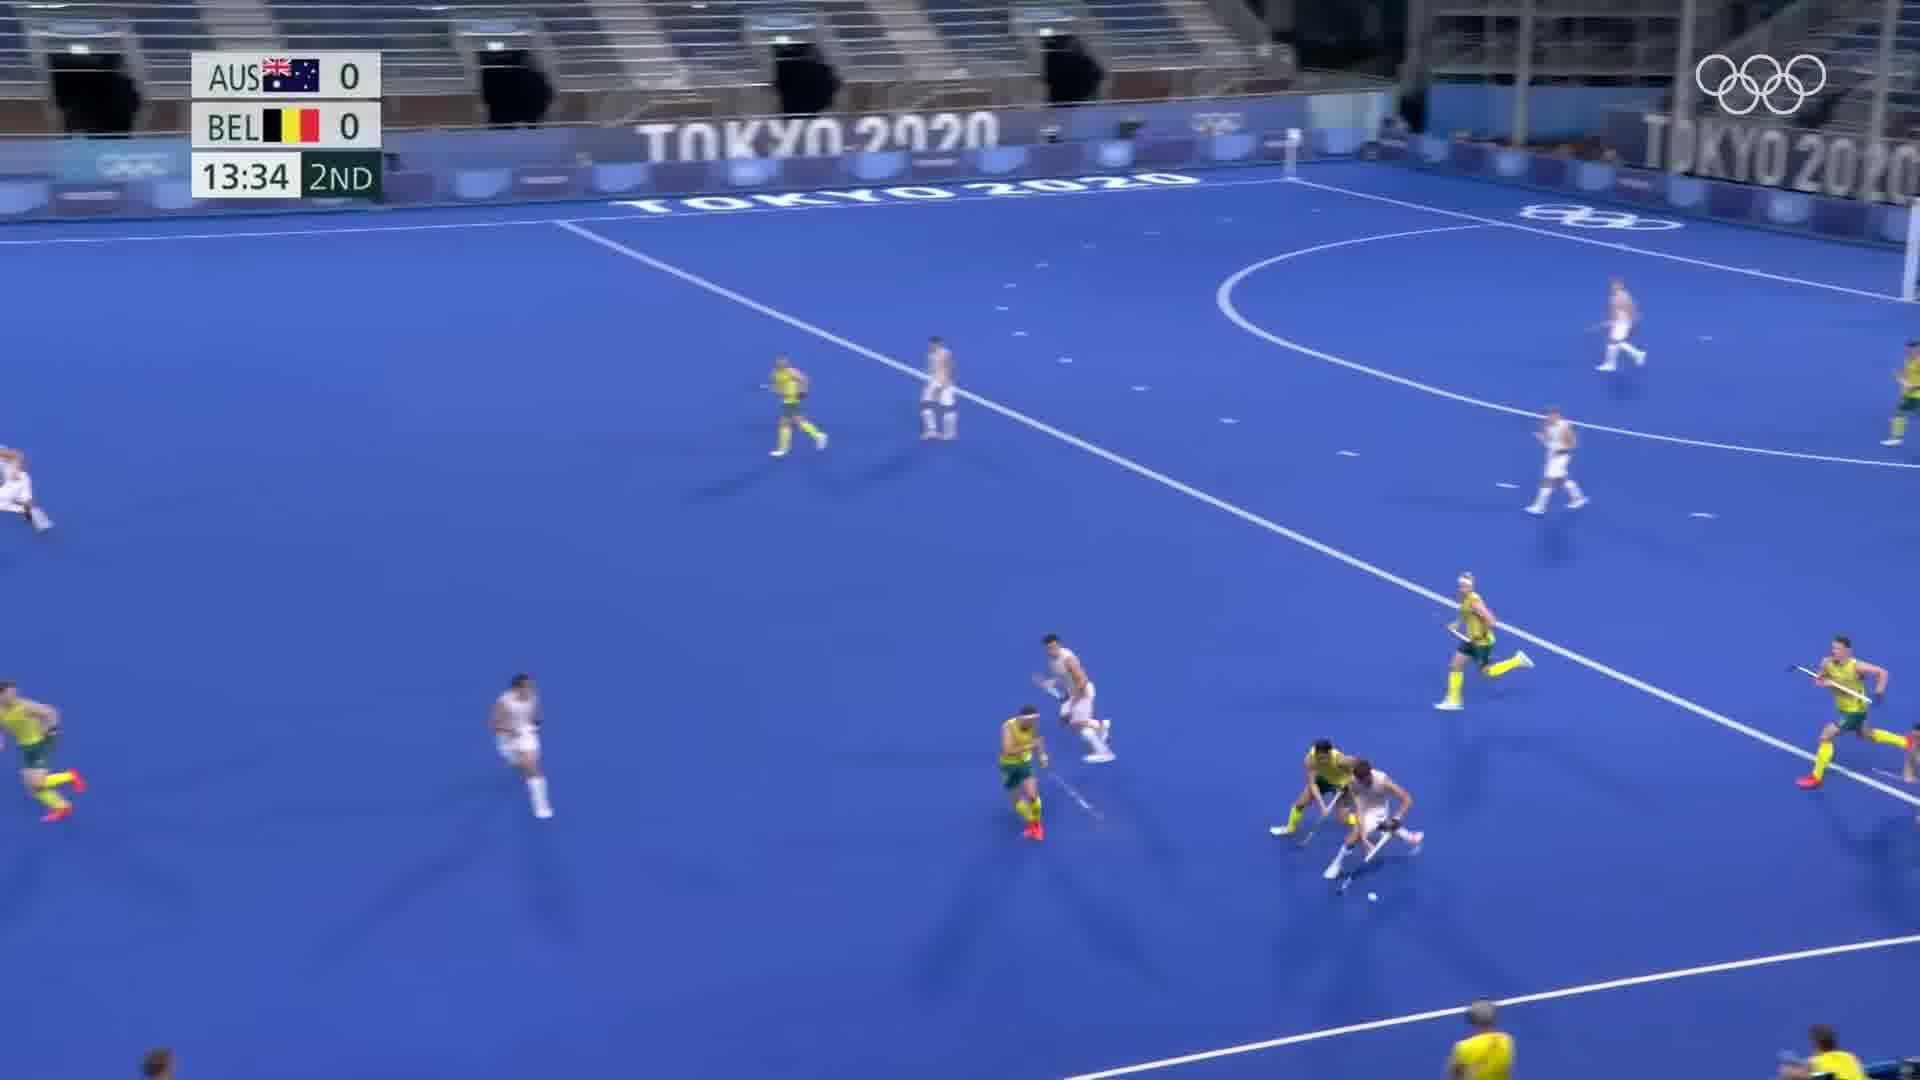ball: (1362, 885, 1382, 911)
